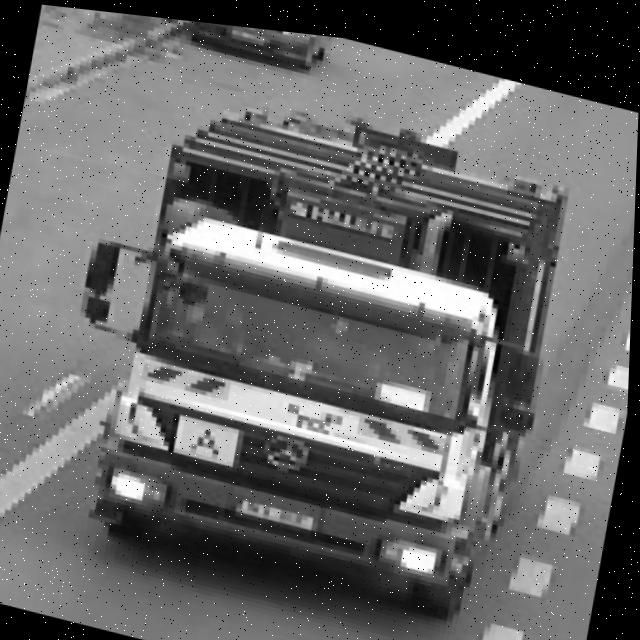truck: (45, 160, 560, 634)
